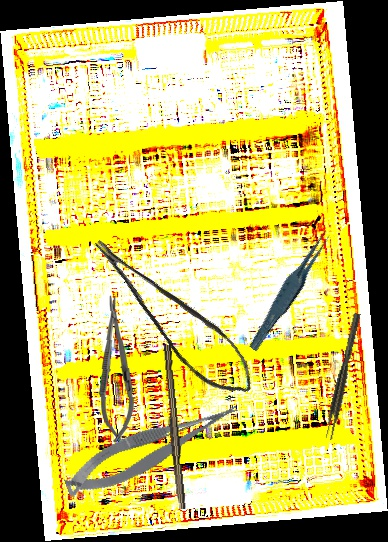Micro Scissor: (88, 214, 265, 413), (56, 396, 249, 503)
Needle Holder: (95, 293, 137, 444)
Scalpel Handle: (158, 344, 189, 510)
Tissue Forceps: (240, 228, 341, 353), (322, 312, 365, 441)
